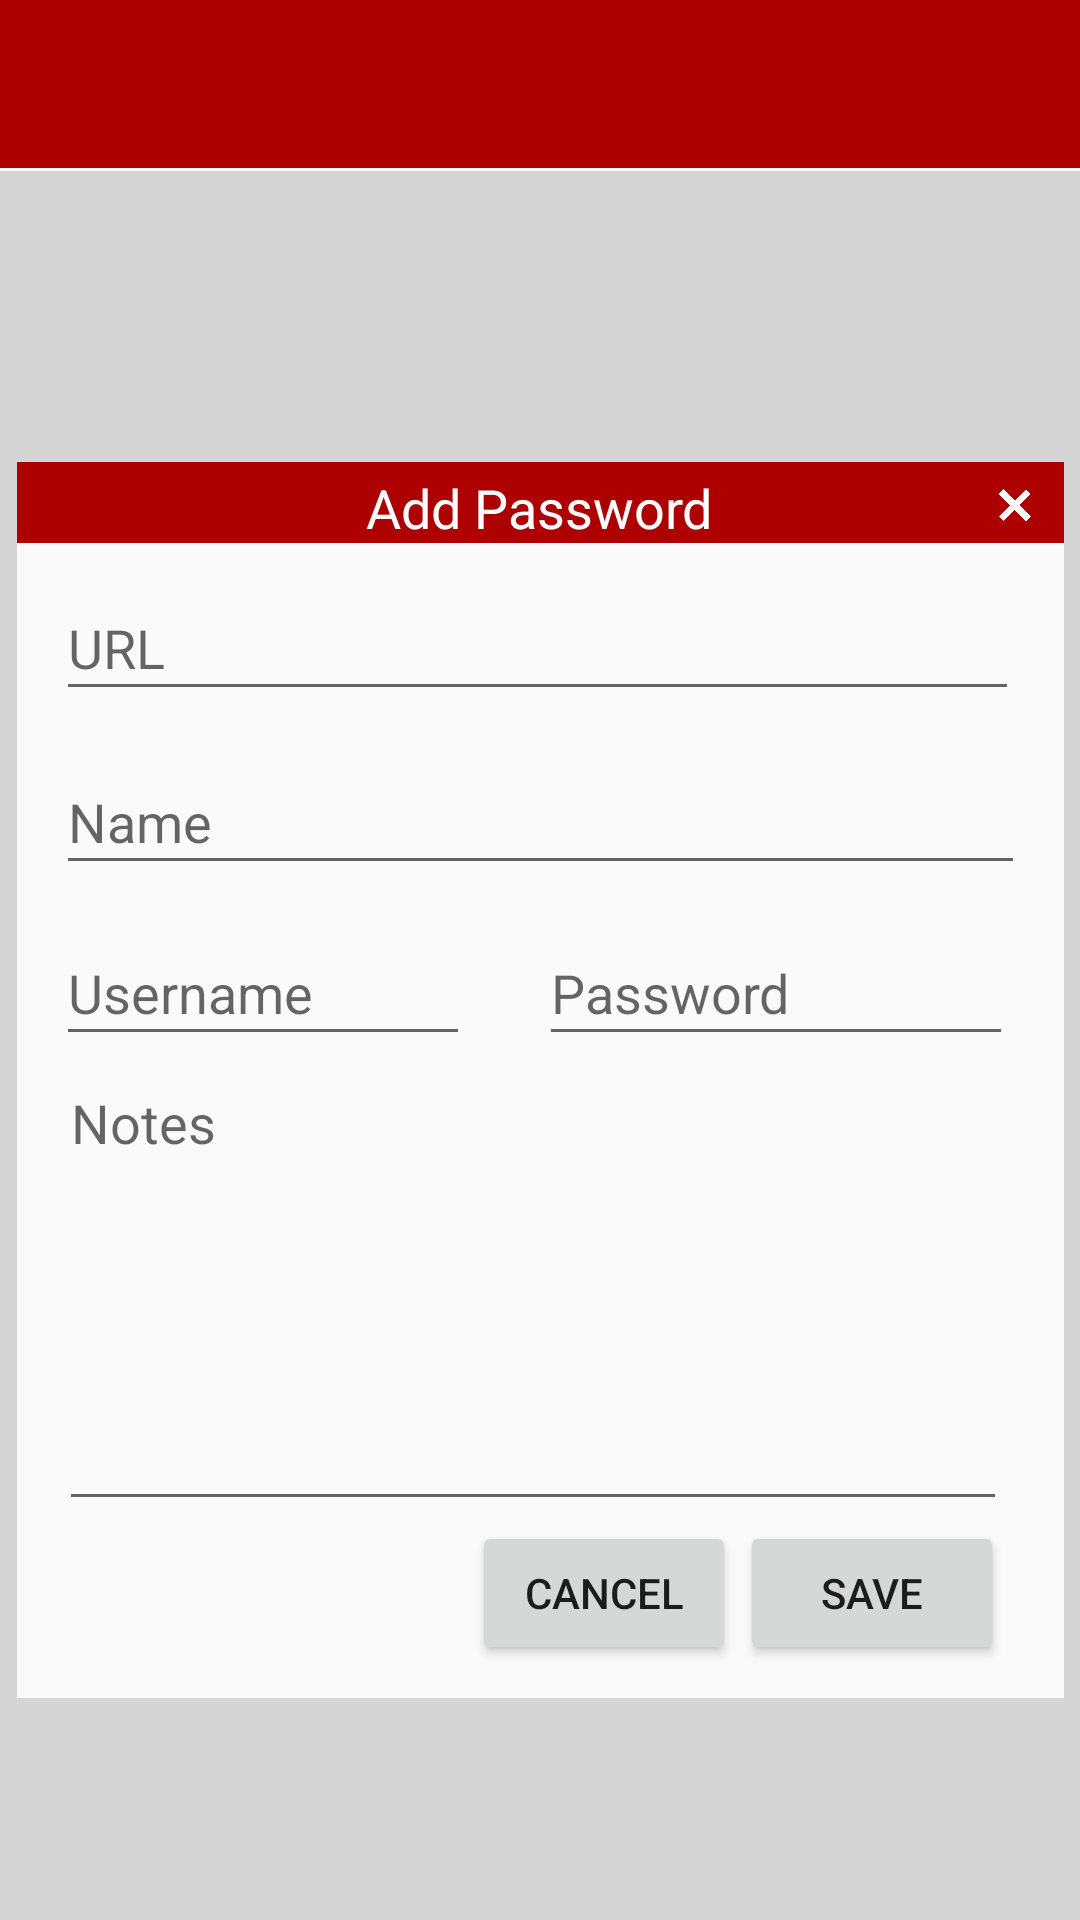

Screen size 1080×1920. Icon name, then its box in pixels as (x1, y1, x2, y2):
exit: (999, 489, 1031, 521)
